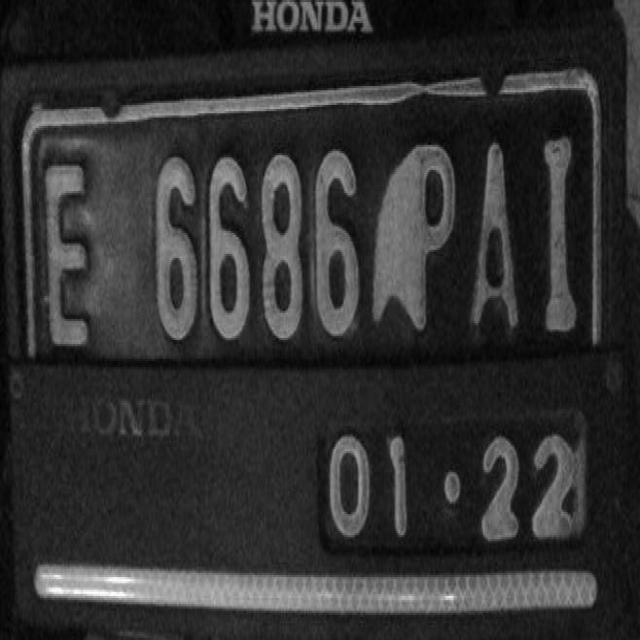license-plat: (2, 1, 640, 634)
